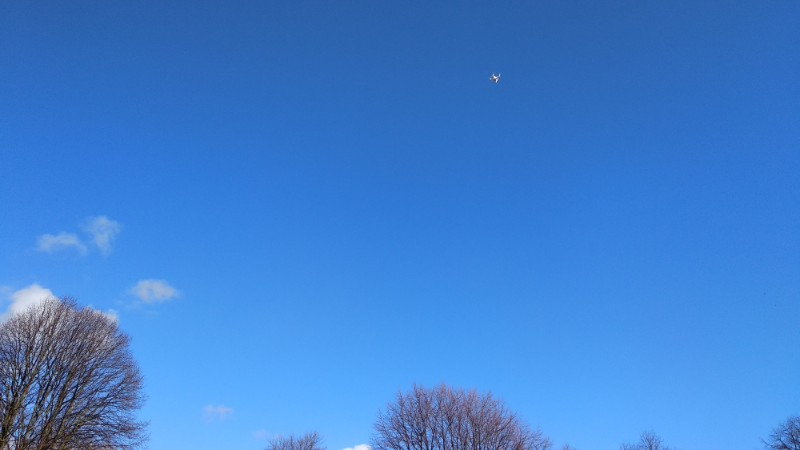drone: (487, 70, 502, 84)
